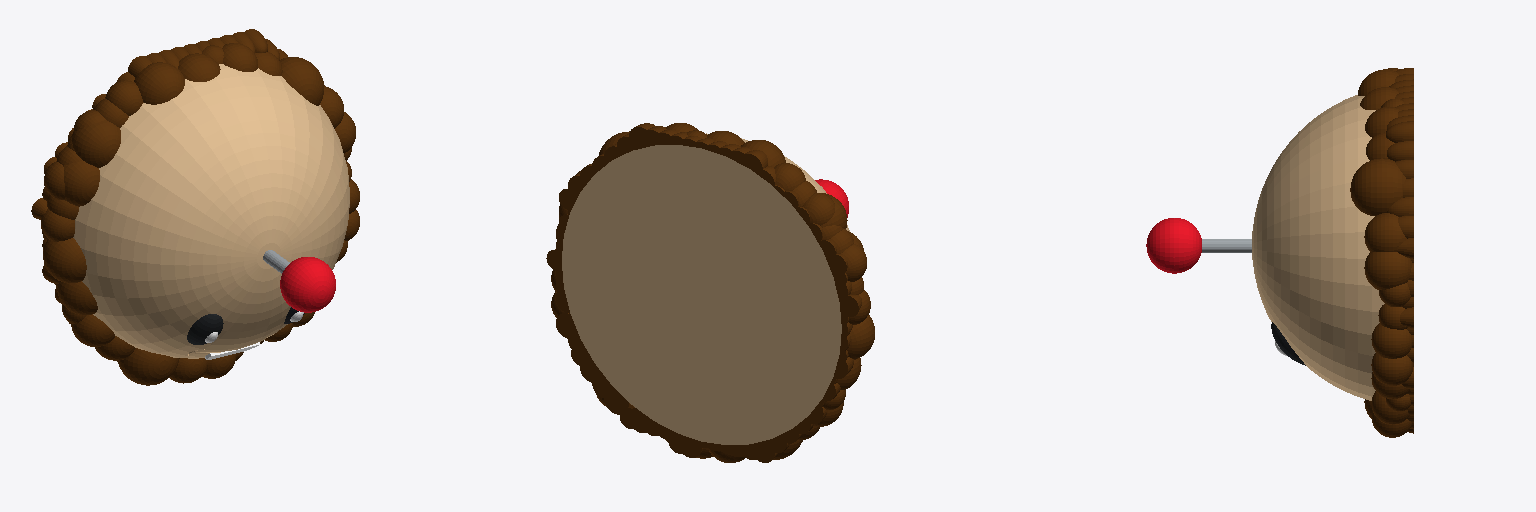
File: potato.obj
3 renders of one model, left to right at view 1: azimuth 30°, elevation 25°; view 2: azimuth 150°, elevation 25°; view 3: azimuth 270°, elevation 25°, orthographic.
Visible parts, largest first — view 1: obj_0; view 2: obj_0; view 3: obj_0.
Boxes of the visible parts, <box> form: obj_0: <box>31,29,359,385</box>; obj_0: <box>546,123,874,462</box>; obj_0: <box>1146,68,1413,437</box>.
Bounding box in the file's own units: 51.8 × 51.16 × 38.